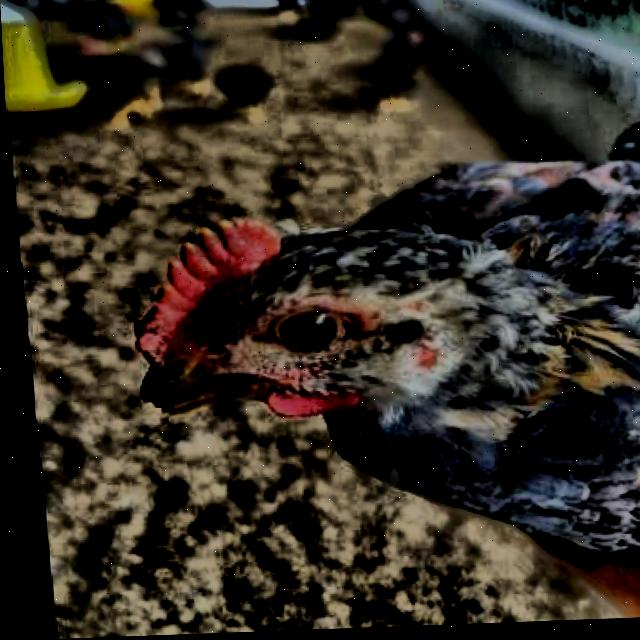Healthy: (245, 292, 378, 364)
